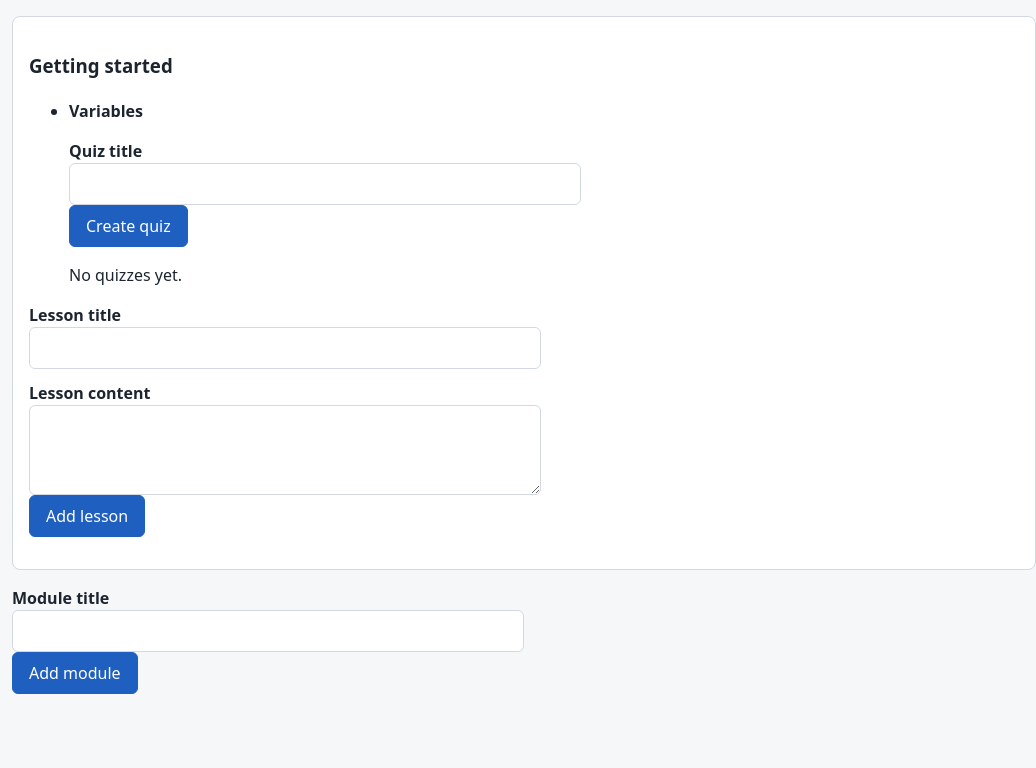
Scenario: ContentManager › refreshes the quiz list from the server after creating a quiz
Type "New" into the field labelled "Quiz title" at (325, 184), box [69,162,581,204]
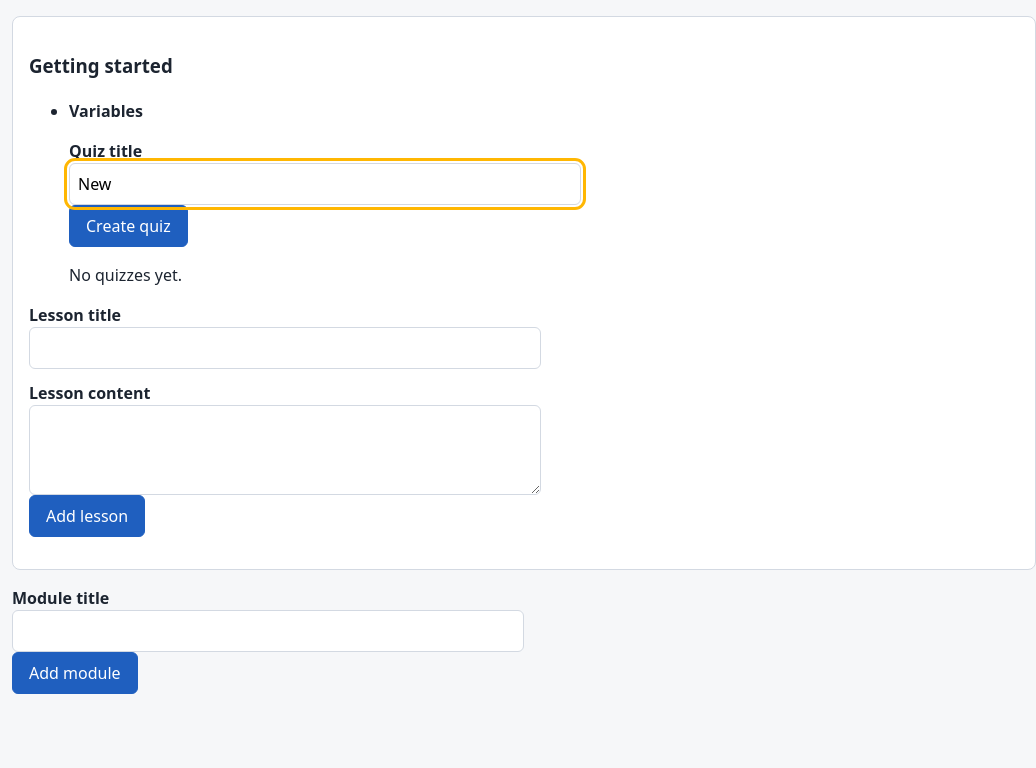
Click the button "Create quiz" at (128, 226), box [69,204,188,246]
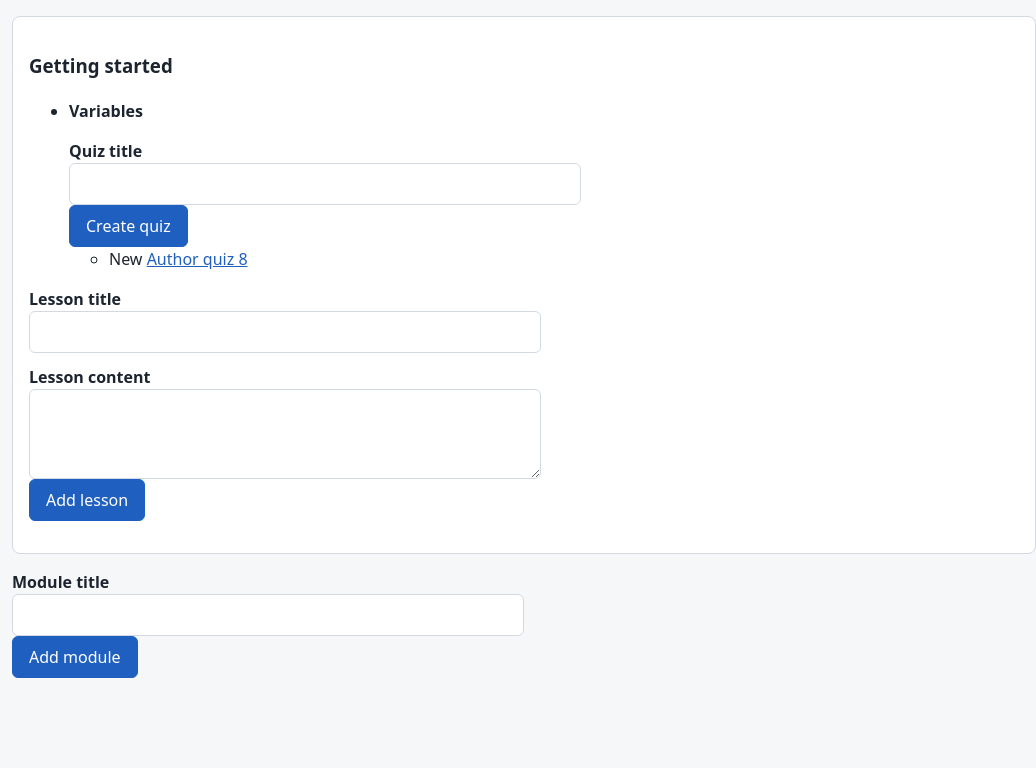
Check: the link "Author quiz 8" is shown, box [147,248,248,270]
